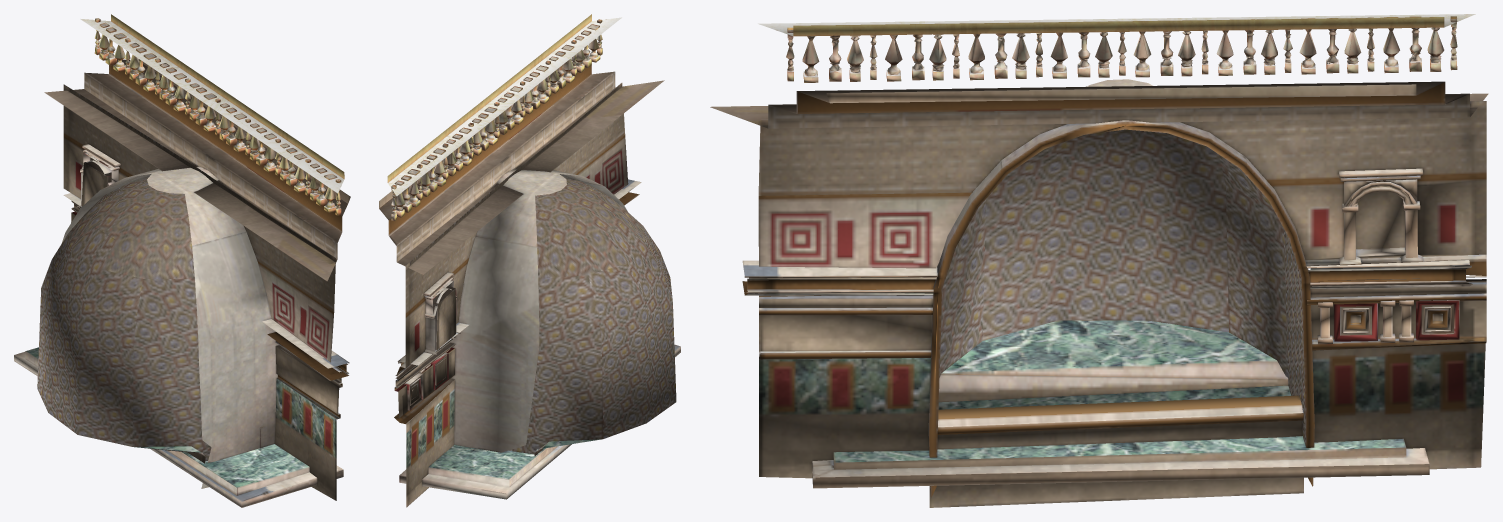
The model's file is Wall01.gltf.
3 renders of one model, left to right at view 1: azimuth 30°, elevation 25°; view 2: azimuth 150°, elevation 25°; view 3: azimuth 270°, elevation 25°, orthographic. The views are drawn at different scales.
Visible parts, largest first — view 1: Wall01; view 2: Wall01; view 3: Wall01.
Part boxes in pixels (left/top/right/bottom): Wall01: left=14, top=14, right=350, bottom=507; Wall01: left=379, top=14, right=680, bottom=507; Wall01: left=710, top=14, right=1488, bottom=507.
Bounding box in the file's own units: 7.13 × 11.91 × 16.83.
2 materials, 2 textured.
